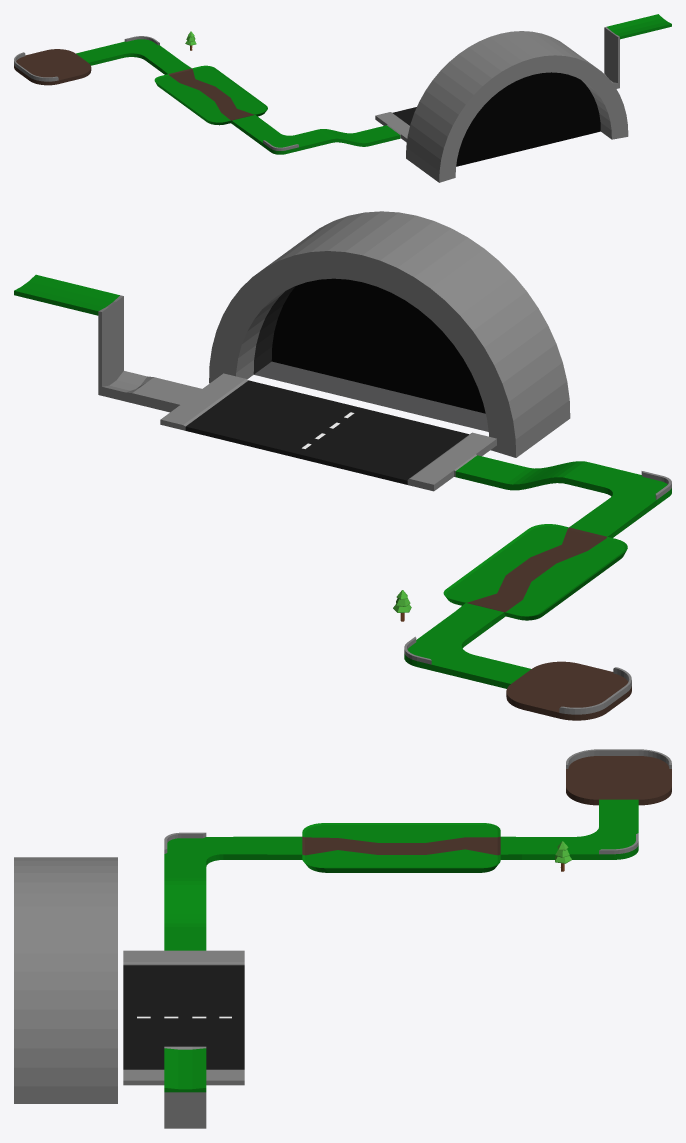
The model's file is Terrain1PafLand.fbx.
3 views of the same model, one above another, from view 1: azimuth 30°, elevation 25°; view 2: azimuth 150°, elevation 25°; view 3: azimuth 270°, elevation 25° (orthographic). The views are drawn at different scales.
Visible parts, largest first — view 1: Cylinder.001, Cube; view 2: Cylinder.001, Cube; view 3: Cube, Cylinder.001.
Part boxes in pixels (box(x1,y1,x2,y2)): Cylinder.001: box(406, 31, 628, 182); Cube: box(14, 14, 671, 154); Cylinder.001: box(209, 211, 570, 457); Cube: box(14, 274, 671, 720); Cube: box(123, 749, 671, 1128); Cylinder.001: box(14, 857, 117, 1103).
Size of the model in its own units: 3494 by 675 by 2534.
